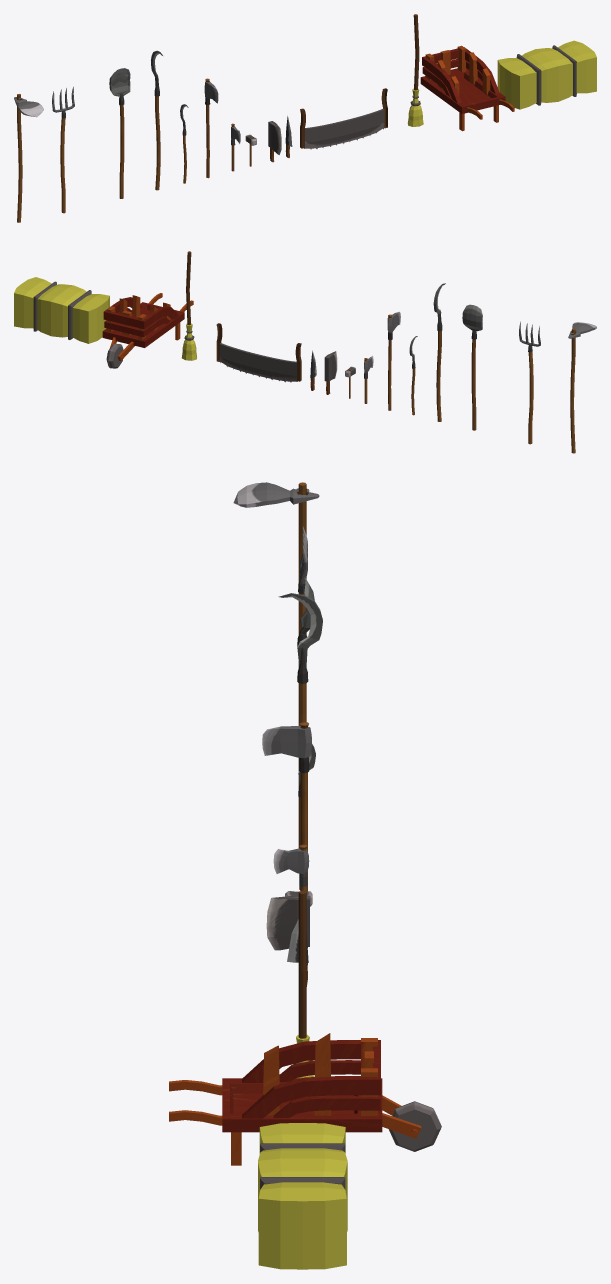
The model's file is Ferramentas de fazenda.fbx.
The picture shows the model from 3 angles, top to bottom: view 1: azimuth 30°, elevation 25°; view 2: azimuth 150°, elevation 25°; view 3: azimuth 270°, elevation 25°; orthographic projection. The views are drawn at different scales.
Parts seen in each view (by area): view 1: Feno, Carrinho de mao, Serrote Duas maos, Pá, Enxada, Vassoura, Ancinho, Foice, Machado, Cutelo; view 2: Feno, Carrinho de mao, Serrote Duas maos, Pá, Enxada, Vassoura, Ancinho, Foice, Machado, Cutelo; view 3: Carrinho de mao, Feno, Machado, Enxada, Foice, Cutelo, Vassoura.
Boxes of the visible parts, x1,y1,x2,y2 form: Feno: (497,40,596,109); Carrinho de mao: (420,45,514,131); Serrote Duas maos: (300,88,387,149); Pá: (109,68,130,198); Enxada: (14,94,43,222); Vassoura: (407,14,423,126); Ancinho: (52,86,74,213); Foice: (151,50,162,190); Machado: (204,78,218,178); Cutelo: (268,121,281,162); Feno: (14,277,109,343); Carrinho de mao: (102,293,193,368); Serrote Duas maos: (216,323,301,382); Pá: (462,304,482,430); Enxada: (568,322,596,453); Vassoura: (181,251,196,360); Ancinho: (519,321,540,444); Foice: (433,283,445,421); Machado: (387,311,400,410); Cutelo: (324,351,337,394); Carrinho de mao: (169,1033,441,1165); Feno: (258,1123,347,1269); Machado: (262,722,311,891); Enxada: (233,482,319,582); Foice: (278,593,322,848); Cutelo: (266,895,309,964); Vassoura: (293,890,313,1078).
Size of the model in its own units: 627 by 145 by 132.
